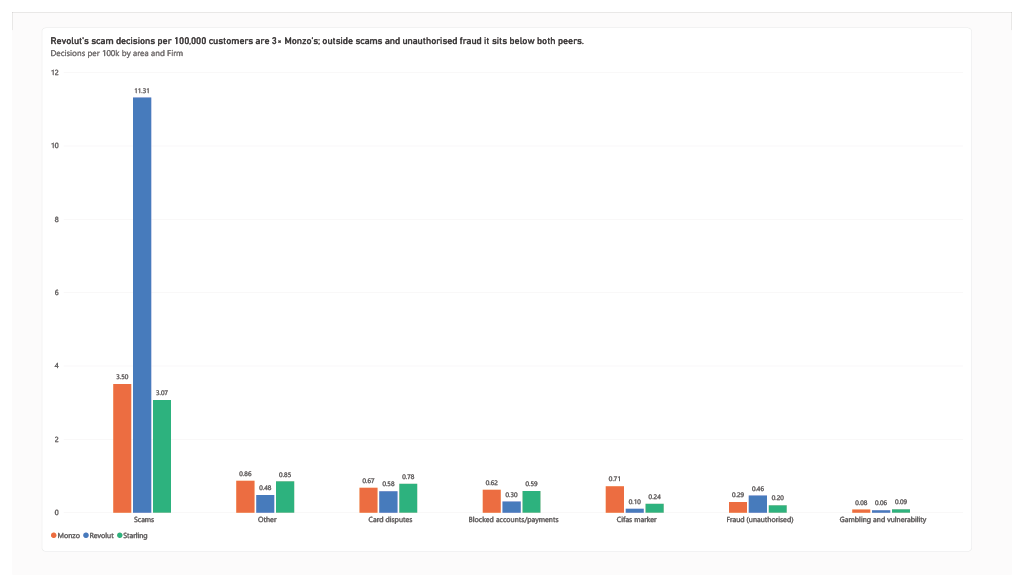

This screenshot's page, from the dashboard's own definition file:
{"tool":"powerbi","page":{"name":"Decisions/100k","canvas":[1920,1080],"ordinal":0},"visuals":[{"type":"clusteredColumnChart","title":"Revolut''s scam decisions per 100,000 customers are 3× Monzo''s; outside scams and unauthorised fraud it sits below both peers.","fields":{"Category":["fos_classified_2025.area"],"Y":["Measure.Decisions per 100k"],"Series":["Customers.Firm"]},"box":[55.7,28.6,1788.6,1007.1],"z":0}]}

Visuals, with their boxes in screenshot pixels (x1, y1, x2, y2), scaled from the page's 1920x1080 canvas onto the 1024x587 screenshot:
"Revolut''s scam decisions per 100,000 customers are 3× Monzo''s; outside scams and unauthorised fraud it sits below both peers." clusteredColumnChart: (x1=30, y1=16, x2=984, y2=563)
